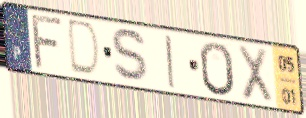D: (68, 17, 103, 80)
F: (30, 13, 66, 72)
I: (163, 33, 178, 92)
O: (198, 40, 237, 99)
S: (109, 26, 153, 85)
X: (235, 42, 275, 107)
